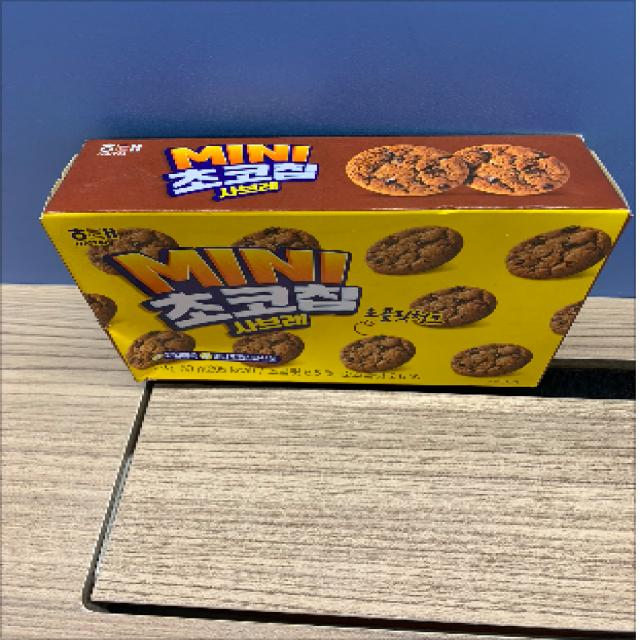object_name: (51, 141, 622, 382)
